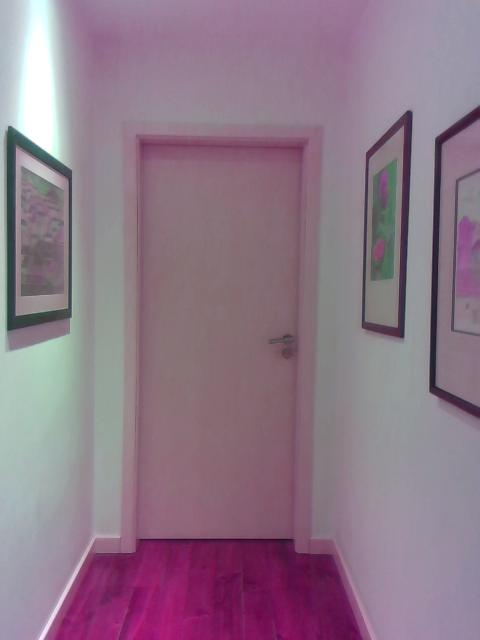closed_door: (135, 133, 304, 543)
